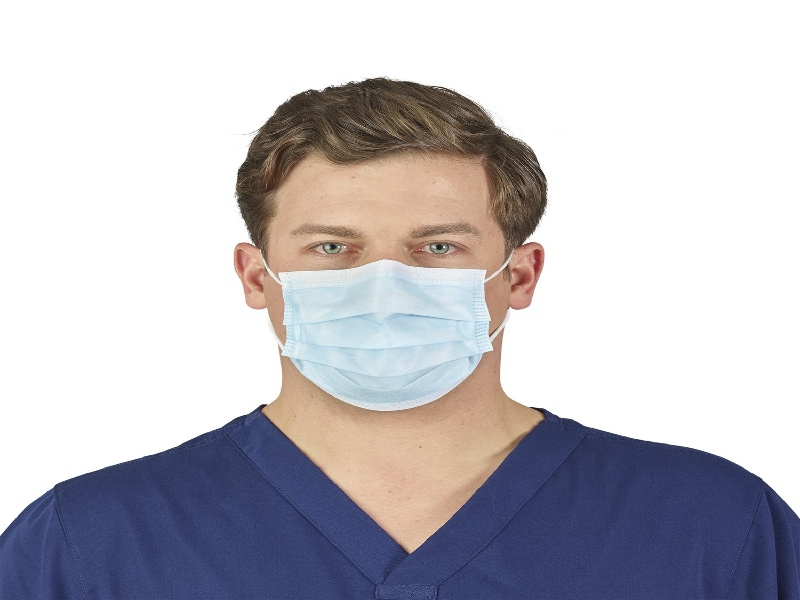mask: (278, 259, 494, 412)
